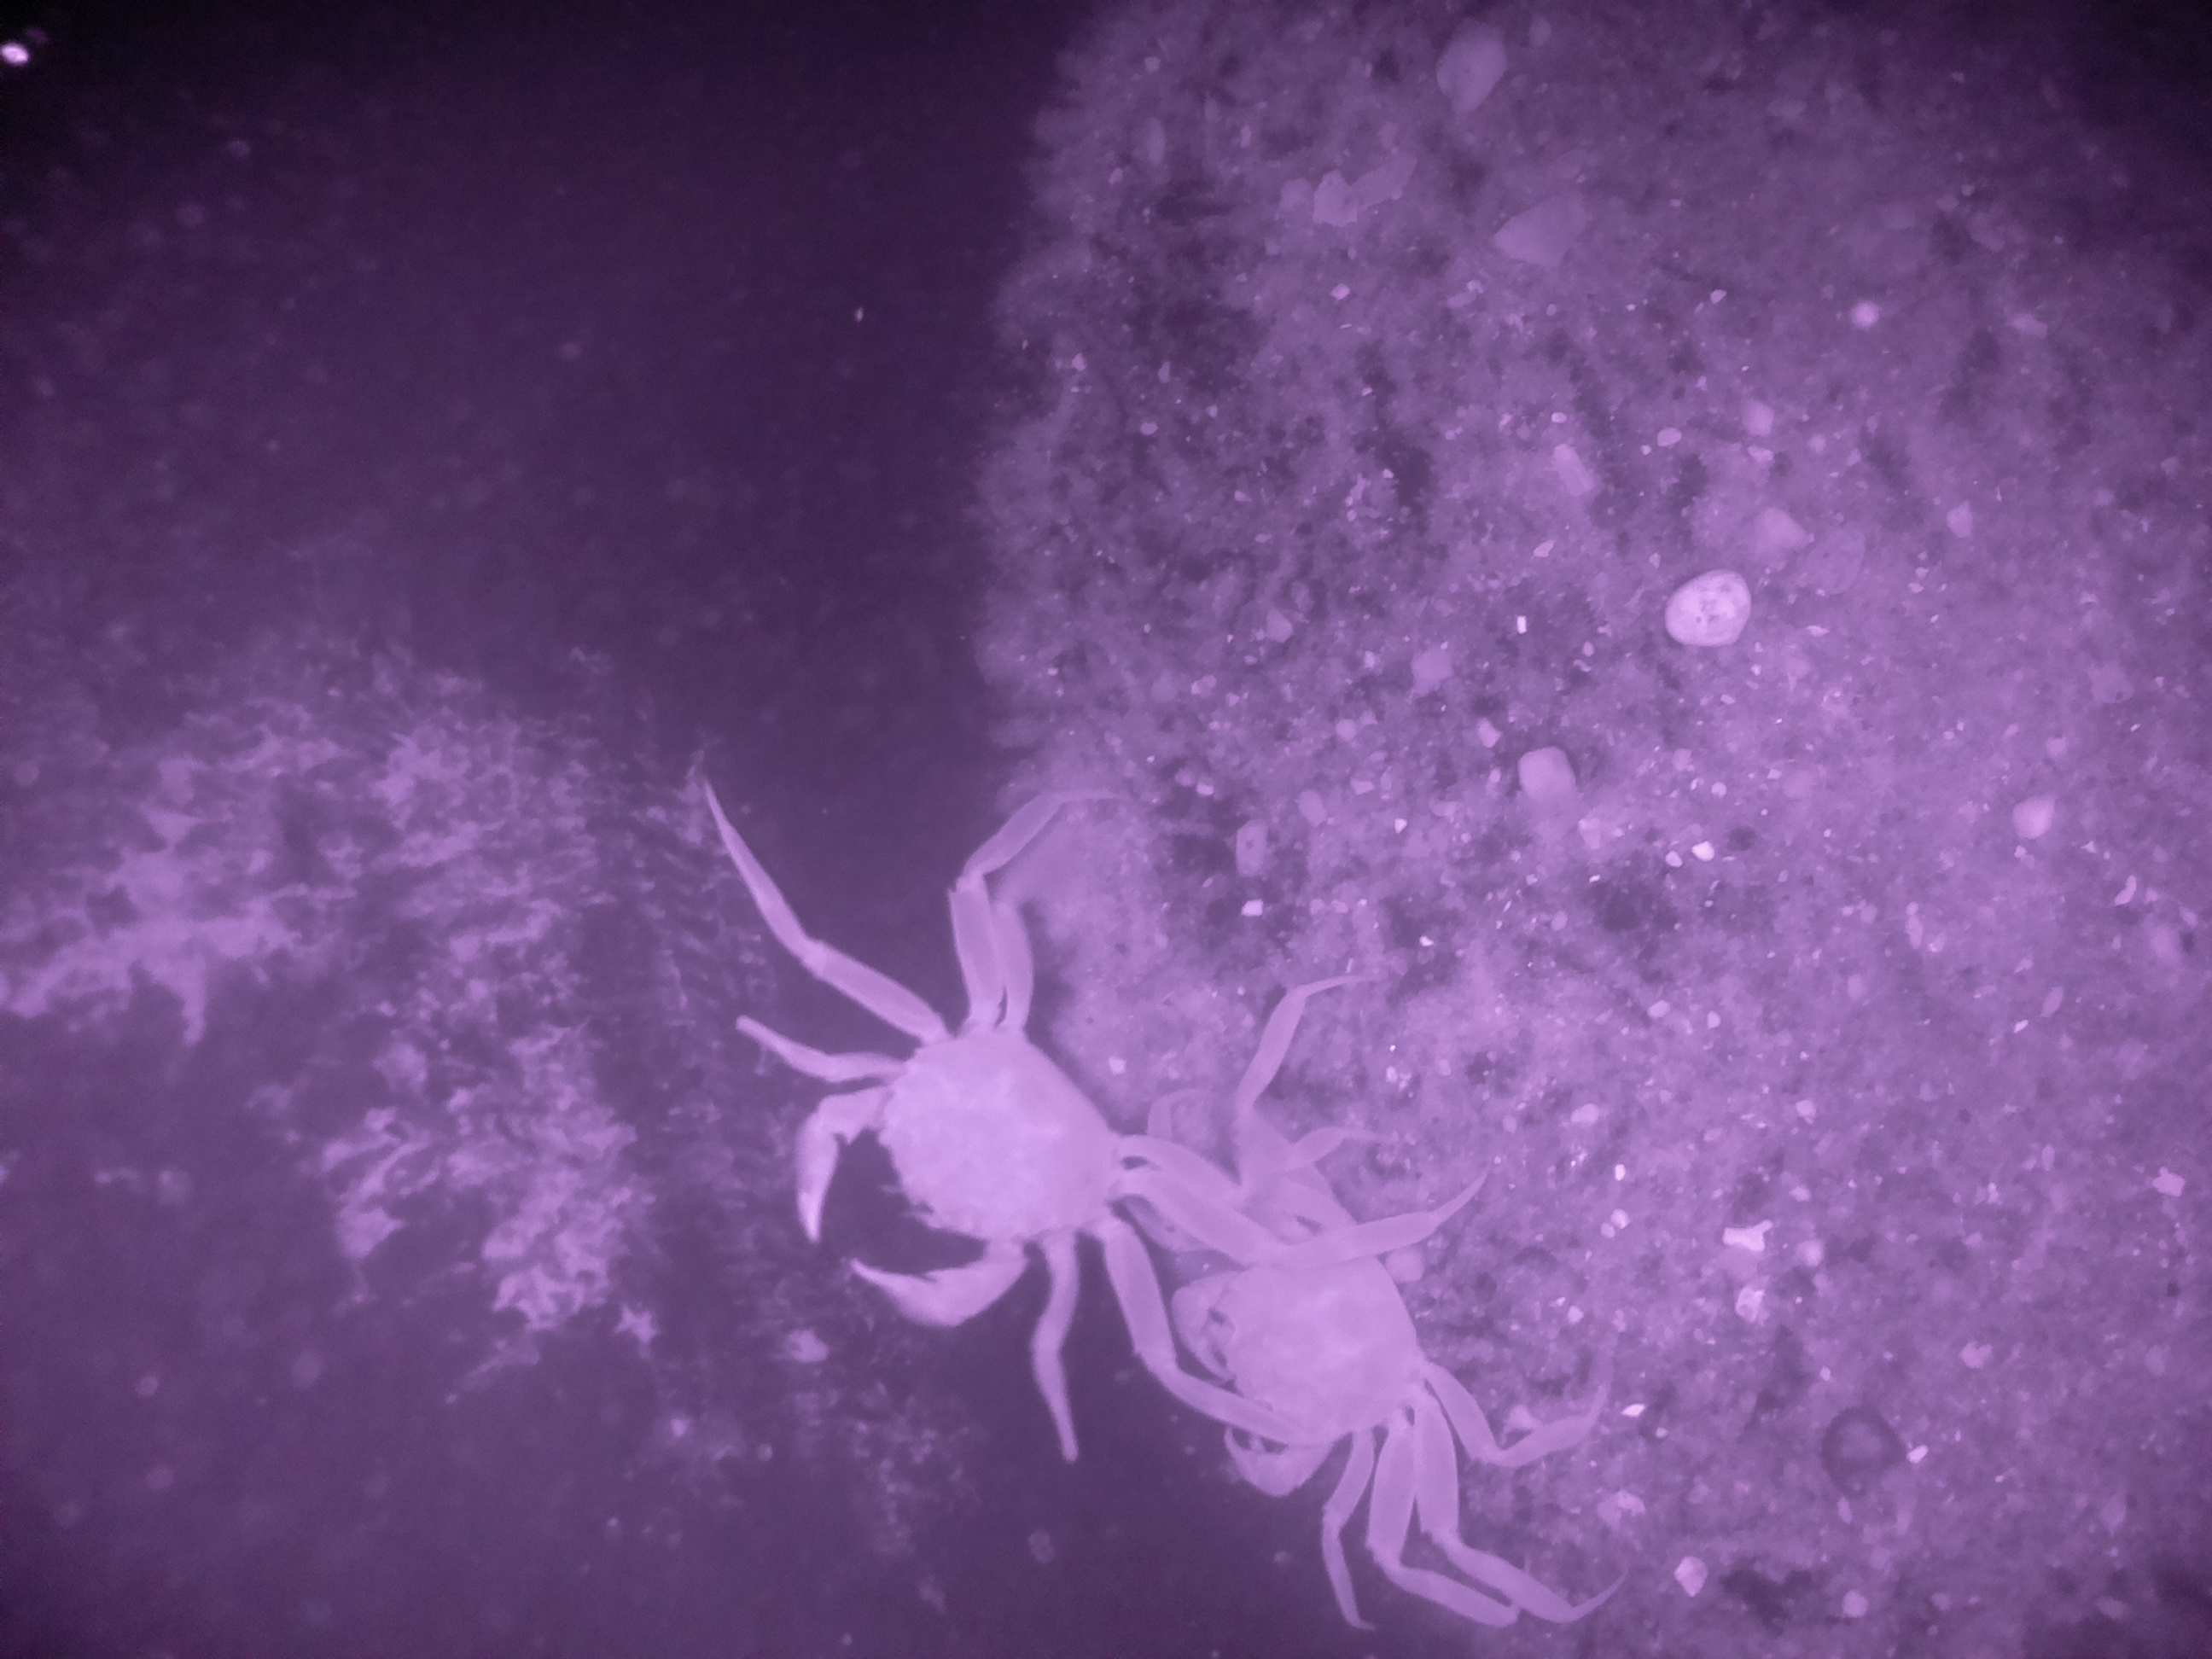Crab: (655, 938, 1256, 1366)
